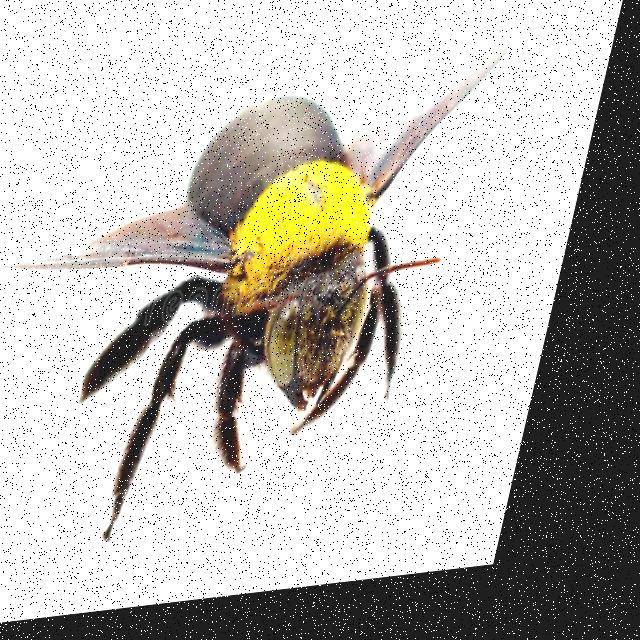Xylocopa: (0, 13, 558, 520)
